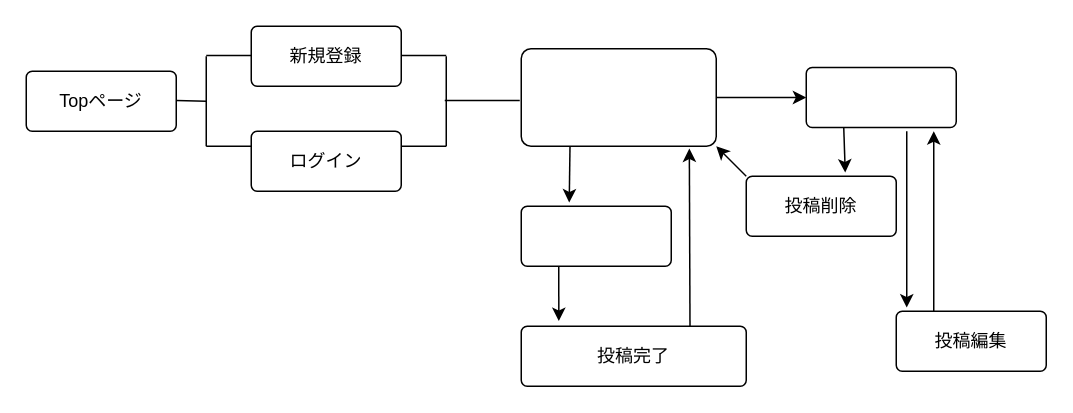
Some shapes in this 1073 by 413 pixel diagram are drawn without their labels. The box of each missing label's shape, as (x1, y1, x2, y2) in pixels:
マイページ/ 一覧表示: (520, 47, 716, 146)
新規投稿: (520, 205, 671, 266)
詳細表示: (805, 66, 956, 128)
